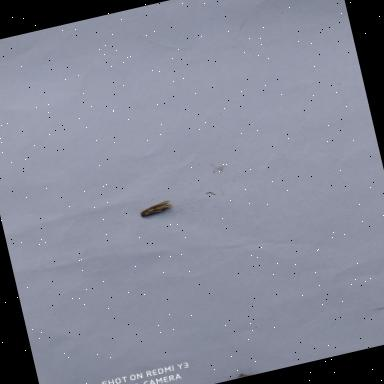pbw: (136, 194, 186, 220)
